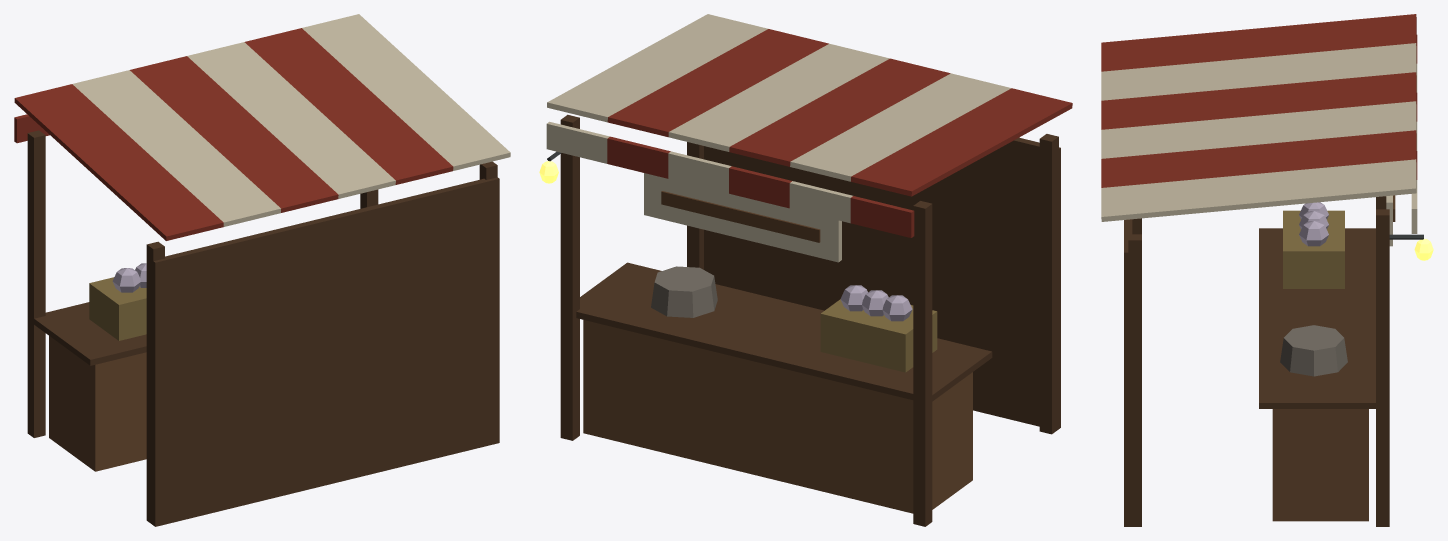
The model's file is bldg_town_stand.glb.
3 views of the same model, side by side, from view 1: azimuth 30°, elevation 25°; view 2: azimuth 150°, elevation 25°; view 3: azimuth 270°, elevation 25° (orthographic). The views are drawn at different scales.
Visible parts, largest first — view 1: Stand; view 2: Stand; view 3: Stand.
Part boxes in pixels (x1,y1,x2,y2): Stand: (14,14,510,526); Stand: (539,14,1072,526); Stand: (1101,14,1433,526).
Size of the model in its own units: 3.01 by 2.71 by 2.42.
